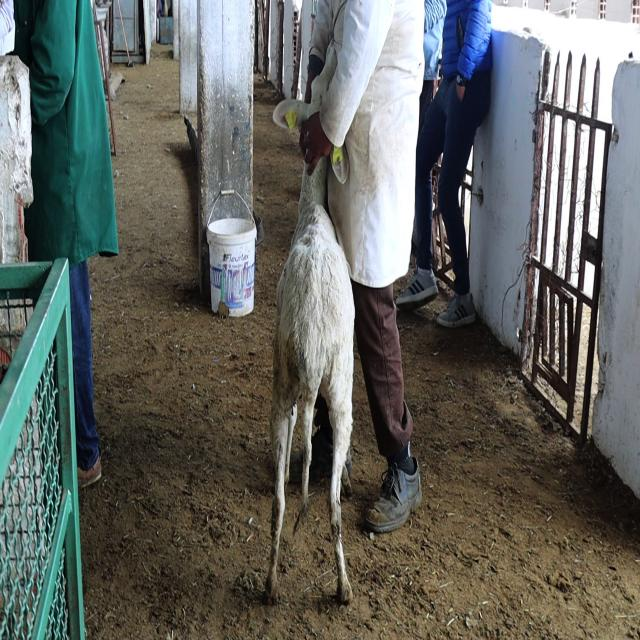Score_1: (265, 159, 355, 604)
